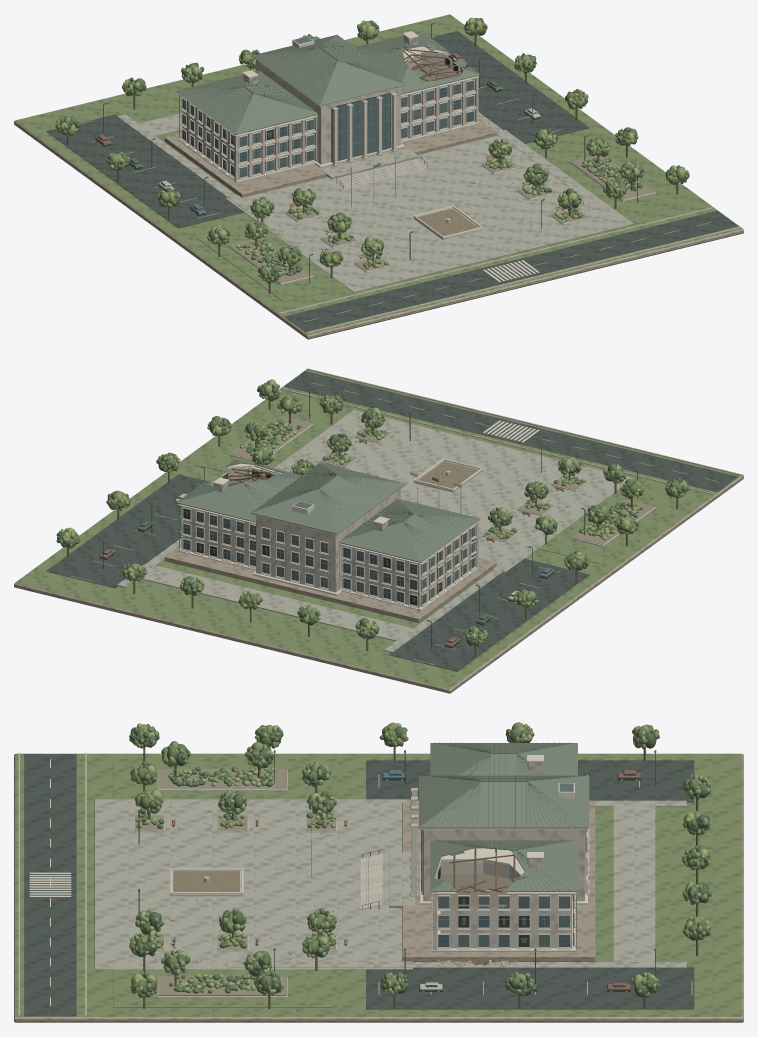
File: city-hall-abandoned.glb
The picture shows the model from 3 angles, top to bottom: view 1: azimuth 30°, elevation 25°; view 2: azimuth 150°, elevation 25°; view 3: azimuth 270°, elevation 25°; orthographic projection. The views are drawn at different scales.
Visible parts, largest first — view 1: 材质批次_abandoned_plaza_paving, 材质批次_abandoned_grass, 材质批次_abandoned_asphalt, 材质批次_abandoned_sage_metal_roof, 材质批次_abandoned_limestone, 材质批次_abandoned_warm_cream_trim, 材质批次_abandoned_stone_courses, 材质批次_abandoned_cityhall_glass_lit, 材质批次_abandoned_leaf_0, 材质批次_abandoned_leaf_2, 材质批次_abandoned_leaf_1, 材质批次_abandoned_standing_seam (+9 smaller); view 2: 材质批次_abandoned_grass, 材质批次_abandoned_asphalt, 材质批次_abandoned_plaza_paving, 材质批次_abandoned_sage_metal_roof, 材质批次_abandoned_limestone, 材质批次_abandoned_warm_cream_trim, 材质批次_abandoned_stone_courses, 材质批次_abandoned_leaf_1, 材质批次_abandoned_leaf_2, 材质批次_abandoned_leaf_0, 材质批次_abandoned_standing_seam, 材质批次_abandoned_leaf_3 (+7 smaller); view 3: 材质批次_abandoned_plaza_paving, 材质批次_abandoned_grass, 材质批次_abandoned_asphalt, 材质批次_abandoned_sage_metal_roof, 材质批次_abandoned_limestone, 材质批次_abandoned_stone_courses, 材质批次_abandoned_warm_cream_trim, 材质批次_abandoned_leaf_1, 材质批次_abandoned_leaf_3, 材质批次_abandoned_leaf_2, 材质批次_abandoned_leaf_0, 材质批次_abandoned_planter_gravel (+9 smaller).
Part boxes in pixels (x1,y1,x2,y2): 材质批次_abandoned_plaza_paving: [117, 112, 633, 292]; 材质批次_abandoned_grass: [15, 14, 742, 334]; 材质批次_abandoned_asphalt: [46, 31, 737, 331]; 材质批次_abandoned_sage_metal_roof: [176, 31, 480, 167]; 材质批次_abandoned_limestone: [179, 35, 741, 333]; 材质批次_abandoned_warm_cream_trim: [80, 31, 711, 321]; 材质批次_abandoned_stone_courses: [14, 15, 743, 339]; 材质批次_abandoned_cityhall_glass_lit: [182, 36, 473, 177]; 材质批次_abandoned_leaf_0: [55, 18, 688, 281]; 材质批次_abandoned_leaf_2: [55, 17, 689, 282]; 材质批次_abandoned_leaf_1: [57, 18, 688, 282]; 材质批次_abandoned_standing_seam: [179, 33, 478, 138]; 材质批次_abandoned_grass: [15, 369, 742, 688]; 材质批次_abandoned_asphalt: [46, 371, 737, 671]; 材质批次_abandoned_plaza_paving: [117, 410, 633, 652]; 材质批次_abandoned_sage_metal_roof: [176, 459, 480, 562]; 材质批次_abandoned_limestone: [180, 368, 741, 607]; 材质批次_abandoned_warm_cream_trim: [71, 382, 718, 664]; 材质批次_abandoned_stone_courses: [14, 369, 743, 693]; 材质批次_abandoned_leaf_1: [56, 382, 688, 646]; 材质批次_abandoned_leaf_2: [57, 379, 687, 645]; 材质批次_abandoned_leaf_0: [60, 384, 689, 644]; 材质批次_abandoned_standing_seam: [179, 460, 477, 610]; 材质批次_abandoned_leaf_3: [56, 386, 681, 645]; 材质批次_abandoned_plaza_paving: [94, 799, 686, 969]; 材质批次_abandoned_grass: [15, 753, 742, 1016]; 材质批次_abandoned_asphalt: [24, 754, 694, 1016]; 材质批次_abandoned_sage_metal_roof: [311, 743, 589, 891]; 材质批次_abandoned_limestone: [18, 752, 589, 1016]; 材质批次_abandoned_stone_courses: [14, 754, 743, 1022]; 材质批次_abandoned_warm_cream_trim: [29, 755, 692, 1005]; 材质批次_abandoned_leaf_1: [129, 724, 710, 997]; 材质批次_abandoned_leaf_3: [130, 725, 711, 997]; 材质批次_abandoned_leaf_2: [130, 723, 711, 995]; 材质批次_abandoned_leaf_0: [130, 722, 710, 997]; 材质批次_abandoned_planter_gravel: [135, 769, 336, 995].
Bounding box in the file's own units: 120 × 23.44 × 140.
Materials: 37 (5 with a texture image).
